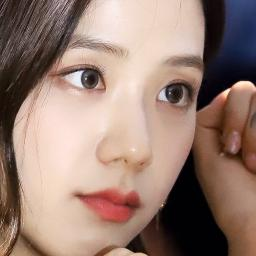face: (24, 1, 194, 249)
